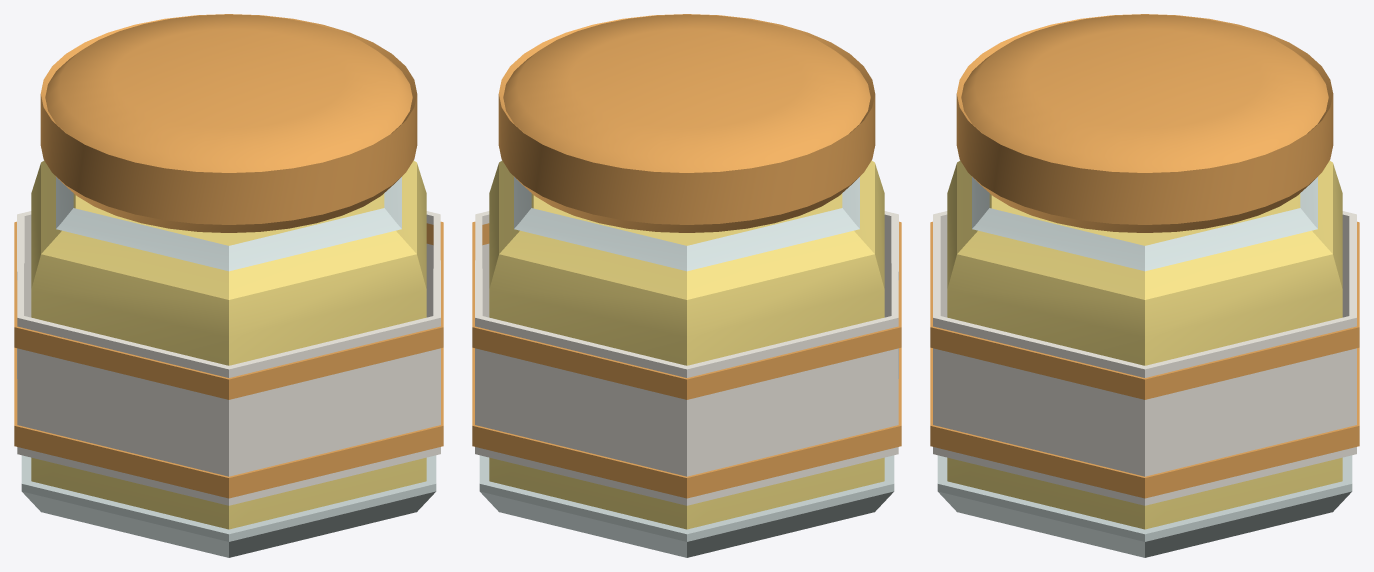
File: fresh-produce-and-groceries-honey-jar-4ef859cb__24434.glb
3 views of the same model, side by side, from view 1: azimuth 30°, elevation 25°; view 2: azimuth 150°, elevation 25°; view 3: azimuth 270°, elevation 25° (orthographic).
Parts seen in each view (by area): view 1: honey-jar; view 2: honey-jar; view 3: honey-jar.
Part boxes in pixels (box(x1,y1,x2,y2)): honey-jar: box(14, 14, 443, 557); honey-jar: box(472, 14, 901, 557); honey-jar: box(930, 14, 1359, 557).
Size of the model in its own units: 0.088 by 0.0762 by 0.0762.
